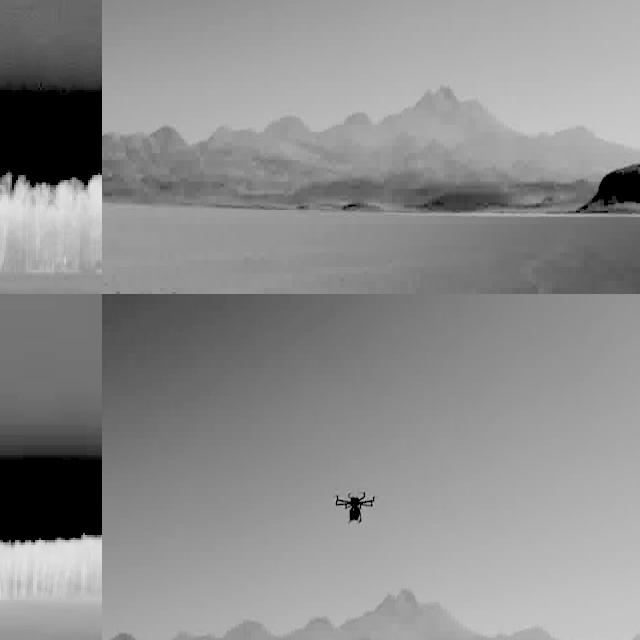drone: (332, 486, 378, 526)
